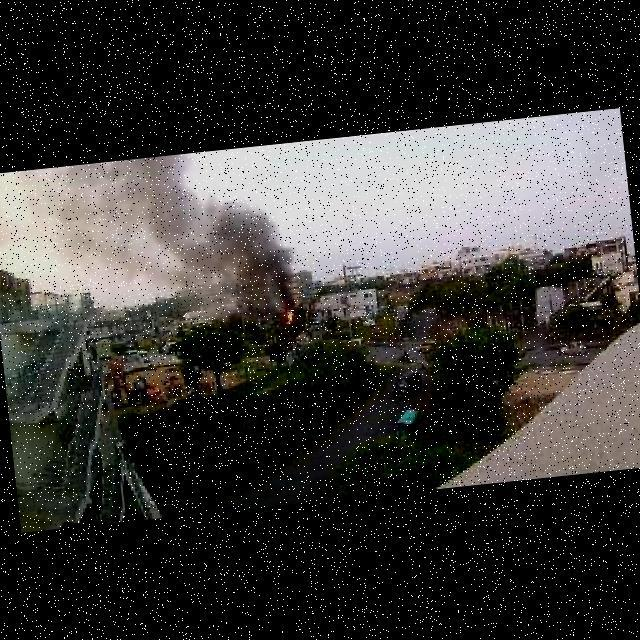Fire: (283, 309, 294, 322)
Smoke: (41, 143, 301, 334)
